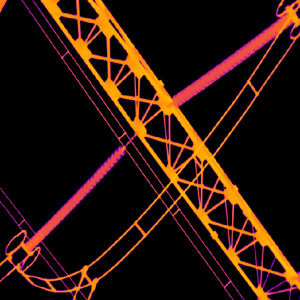insulator: (172, 12, 292, 108), (24, 141, 123, 251)
